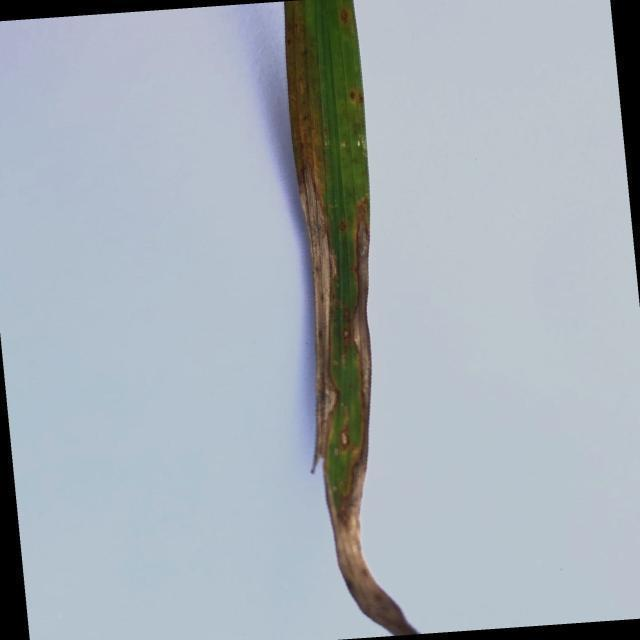Bacterial_Leaf_Blight: (286, 0, 339, 465), (323, 455, 428, 635), (348, 194, 372, 411), (334, 428, 353, 454)
